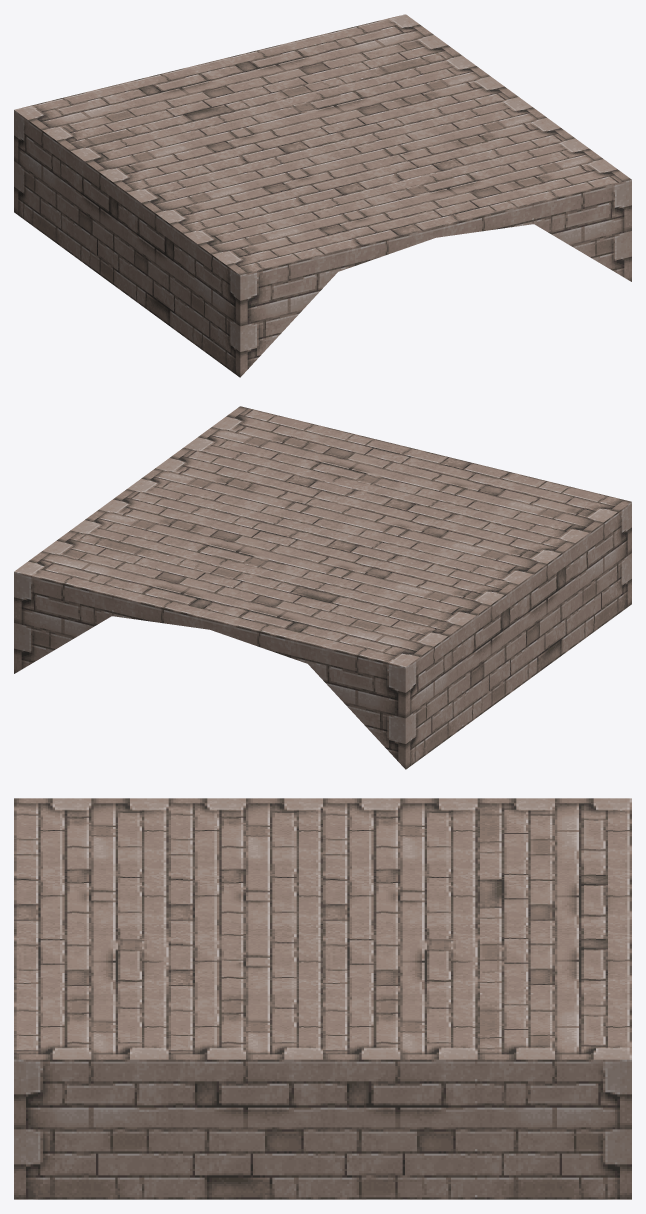
Rendered from stone_archway_top.glb.
3 renders of one model, top to bottom at view 1: azimuth 30°, elevation 25°; view 2: azimuth 150°, elevation 25°; view 3: azimuth 270°, elevation 25°, orthographic. The views are drawn at different scales.
Visible parts, largest first — view 1: stone_archway_top; view 2: stone_archway_top; view 3: stone_archway_top.
Part boxes in pixels (bbox=[...]): stone_archway_top: bbox=[14, 14, 631, 377]; stone_archway_top: bbox=[14, 406, 631, 769]; stone_archway_top: bbox=[14, 798, 631, 1199].
Size of the model in its own units: 4 by 1 by 4.
1 material, 1 textured.
